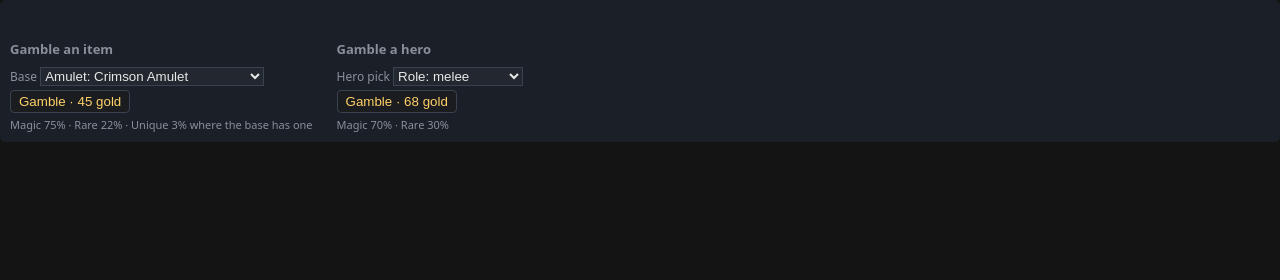
the Gamble tab (E §5.3, B §7.6, H §9.3) › a hero gamble by role reveals a hero, and a short purse is refused
The width and height of the screenshot is (1280, 280).
Select "Role: ranged" in the dropdown labelled "Hero pick" at (458, 76), box 393,67 -> 523,86
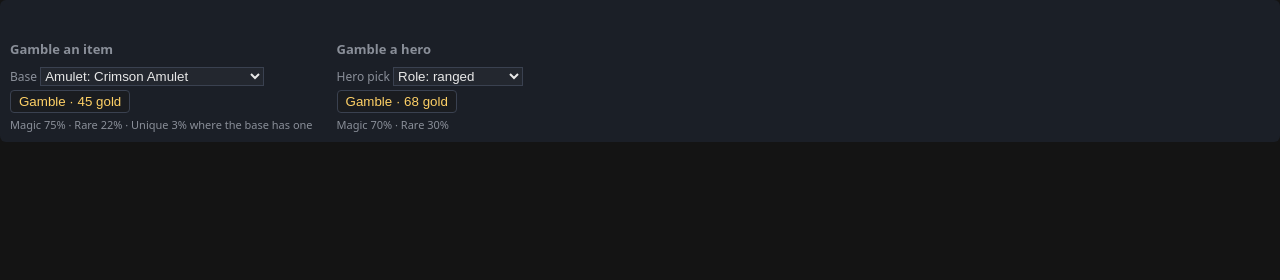
Click the button with test id "gamble-hero" at (397, 102), box 337,90 -> 457,113
Wait 2000 ms
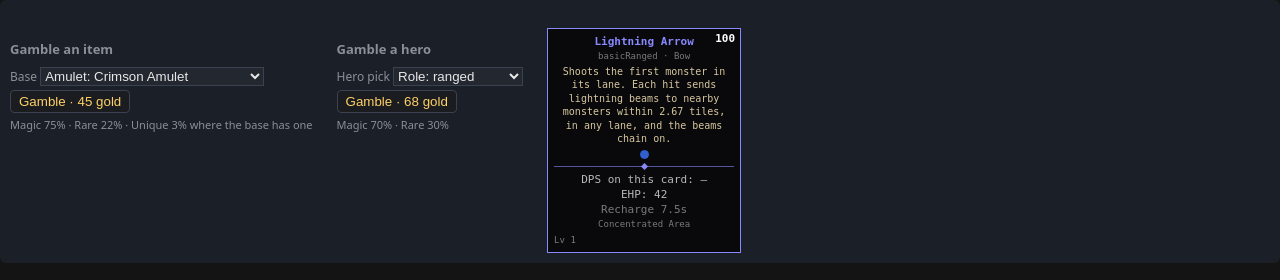
Click the button with test id "gamble-hero" at (397, 102), box 337,90 -> 457,113
Wait 2000 ms
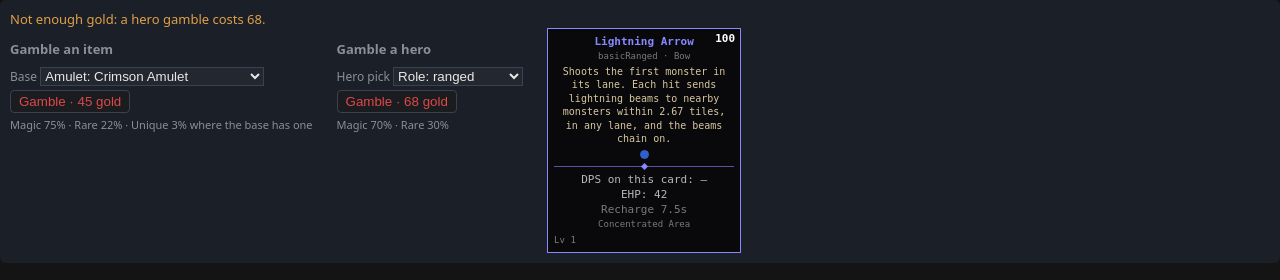
Expected: the text with test id "vendor-status" shows "gold", 10,10 -> 266,28
